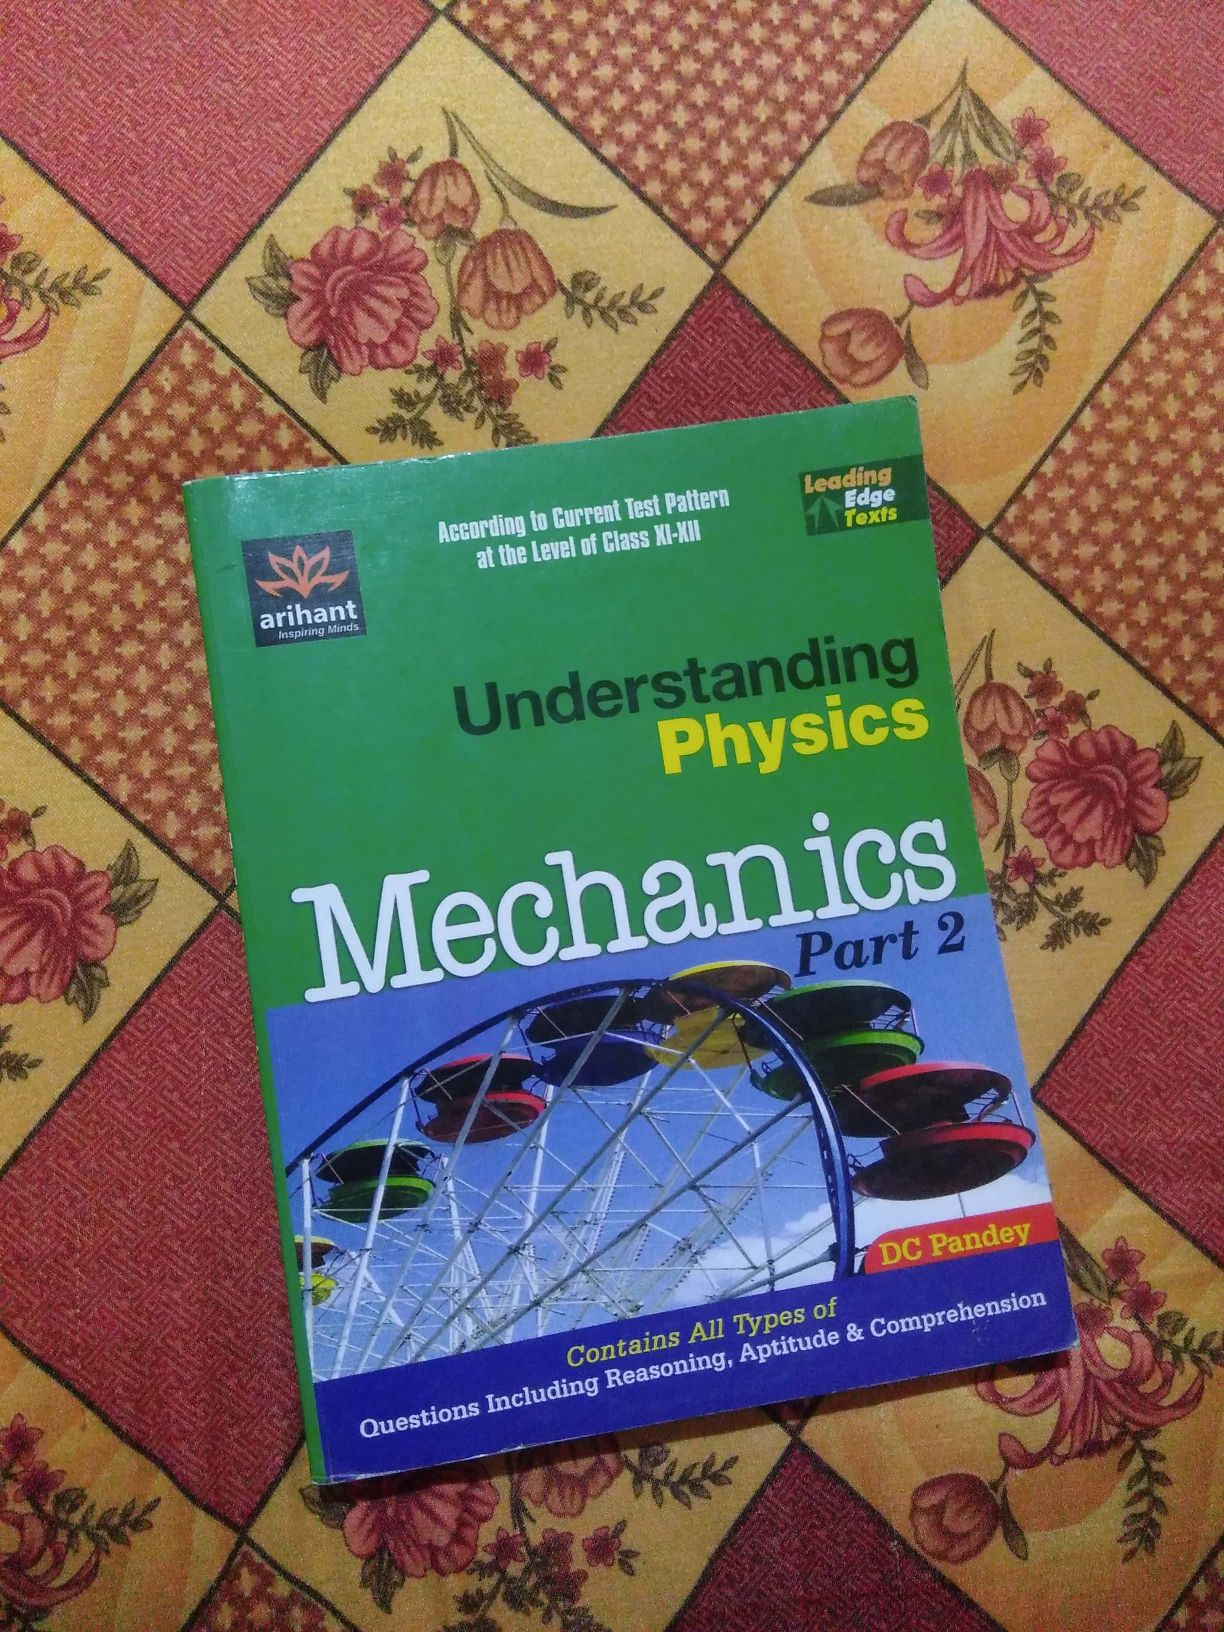mechanics: (98, 421, 1164, 1437)
